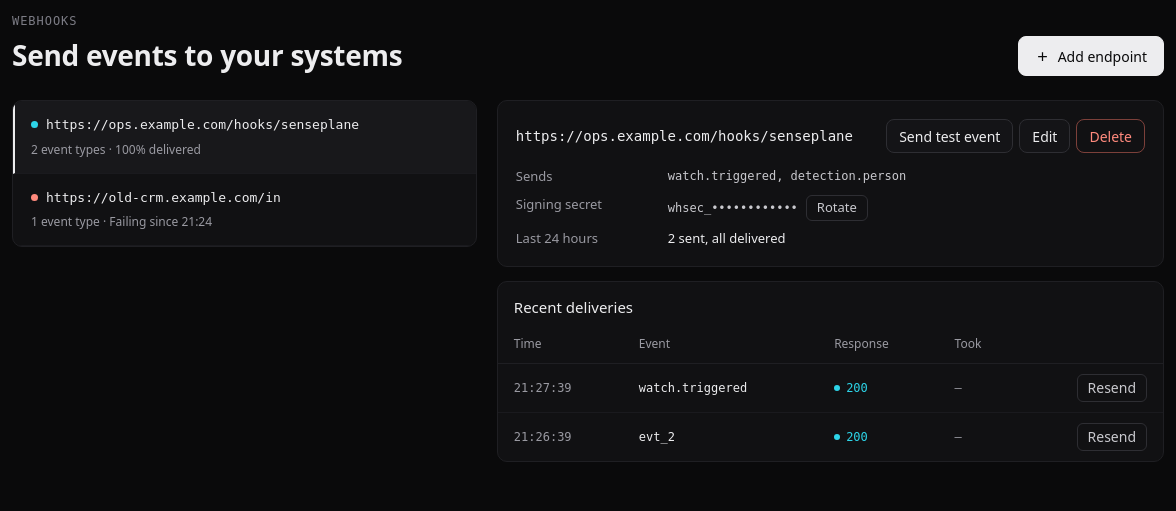
WebhooksPage › resends a delivery
This screenshot has width=1176, height=511.
Click the button "Resend" in the row of "21:27:39": (1112, 388) [1076,374,1147,402]
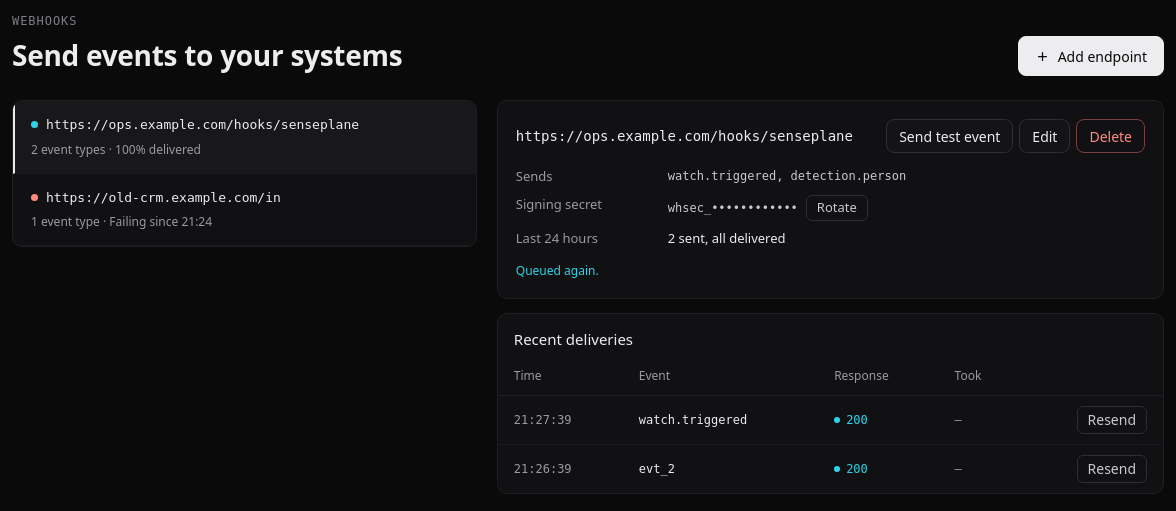
expect the text "Queued again." is shown: met, box [516,262,599,279]
